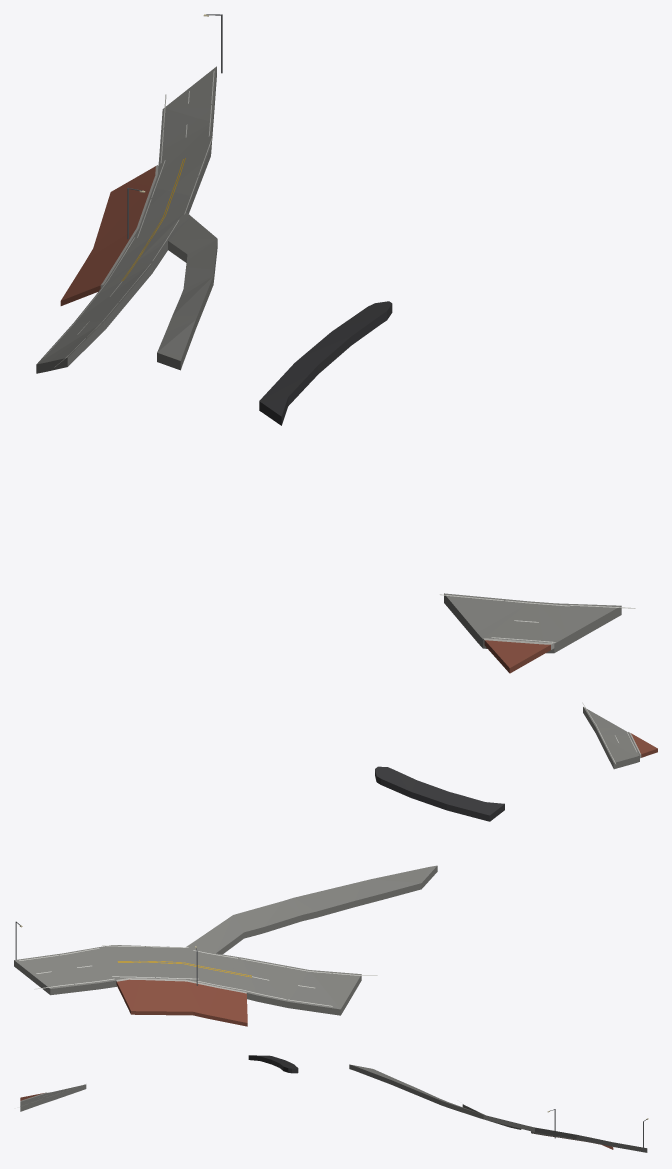
3 views of the same model, one above another, from view 1: azimuth 30°, elevation 25°; view 2: azimuth 150°, elevation 25°; view 3: azimuth 270°, elevation 25° (orthographic). The views are drawn at different scales.
Size of the model in its own units: 47.61 by 23.66 by 150.
